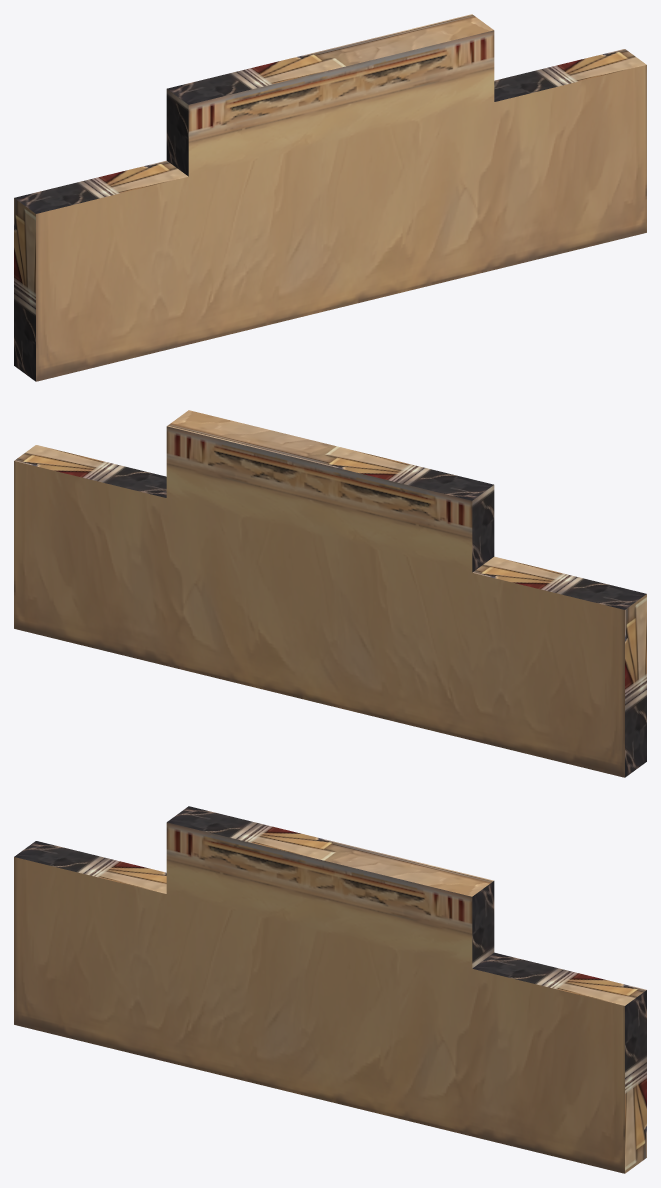
Rendered from DECO_Parapet4.fbx.
3 renders of one model, top to bottom at view 1: azimuth 30°, elevation 25°; view 2: azimuth 150°, elevation 25°; view 3: azimuth 330°, elevation 25°, orthographic.
Visible parts, largest first — view 1: DECO_Parapet4; view 2: DECO_Parapet4; view 3: DECO_Parapet4.
Part boxes in pixels (x1,y1,x2,y2): DECO_Parapet4: (14, 14, 646, 381); DECO_Parapet4: (14, 410, 646, 777); DECO_Parapet4: (14, 806, 646, 1173).
Bounding box in the file's own units: 4 × 0.25 × 1.5.
Materials: 1 (1 with a texture image).
